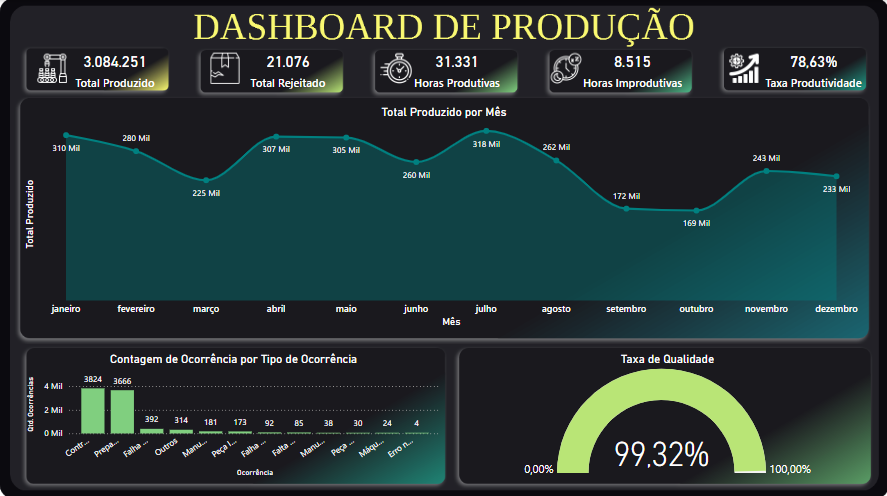

The dashboard page shown, as its layout file describes it:
{"tool":"powerbi","page":{"name":"Página 1","canvas":[1280,720],"ordinal":0},"visuals":[{"type":"card","fields":{"Values":["BaseProdução.Total Produzido"]},"box":[102.2,64.8,126.7,67.7],"z":0},{"type":"card","fields":{"Values":["BaseProdução.Total Rejeitado"]},"box":[339.4,64.8,149.8,67.7],"z":1000},{"type":"card","fields":{"Values":["BaseProdução.Horas Produtivas"]},"box":[583.8,64.8,149.8,67.7],"z":2000},{"type":"card","fields":{"Values":["BaseProdução.Horas Improdutivas"]},"box":[828.3,64.8,165.6,67.7],"z":3000},{"type":"areaChart","fields":{"Y":["BaseProdução.Total Produzido"],"Category":["BaseProdução.Data Inicio.Variation.Hierarquia de datas.Mês"]},"box":[29.4,151.2,1221.1,325.4],"z":4000},{"type":"columnChart","title":"Contagem de Ocorrência por Tipo de Ocorrência","fields":{"Category":["BaseProdução.Ocorrência"],"Y":["CountNonNull(BaseProdução.Ocorrência)"]},"box":[33.1,506.9,606.2,184.3],"z":5000},{"type":"card","fields":{"Values":["BaseProdução.% Produtividade"]},"box":[1088.6,64.8,165.6,67.7],"z":6000},{"type":"gauge","fields":{"Y":["BaseProdução.Taxa de Qualidade"]},"box":[668.2,506.9,586.1,184.3],"z":7000},{"type":"image","box":[47.5,64.8,54.7,67.7],"z":8000},{"type":"image","box":[298.1,64.8,54.7,67.7],"z":9000},{"type":"image","box":[542.9,64.8,54.7,67.7],"z":10000},{"type":"image","box":[787.7,64.8,54.7,67.7],"z":11000},{"type":"image","box":[1044,64.8,54.7,67.7],"z":12000}]}

Visuals, with their boxes in screenshot pixels (x1, y1, x2, y2), scaled from the page's 1280x720 canvas onto the 887x496 screenshot:
card - BaseProdução.Total Produzido: (left=71, top=45, right=159, bottom=91)
card - BaseProdução.Total Rejeitado: (left=235, top=45, right=339, bottom=91)
card - BaseProdução.Horas Produtivas: (left=405, top=45, right=508, bottom=91)
card - BaseProdução.Horas Improdutivas: (left=574, top=45, right=689, bottom=91)
areaChart - BaseProdução.Total Produzido x BaseProdução.Data Inicio.Variation.Hierarquia de datas.Mês: (left=20, top=104, right=867, bottom=328)
"Contagem de Ocorrência por Tipo de Ocorrência" columnChart: (left=23, top=349, right=443, bottom=476)
card - BaseProdução.% Produtividade: (left=754, top=45, right=869, bottom=91)
gauge - BaseProdução.Taxa de Qualidade: (left=463, top=349, right=869, bottom=476)
image: (left=33, top=45, right=71, bottom=91)
image: (left=207, top=45, right=244, bottom=91)
image: (left=376, top=45, right=414, bottom=91)
image: (left=546, top=45, right=584, bottom=91)
image: (left=723, top=45, right=761, bottom=91)
